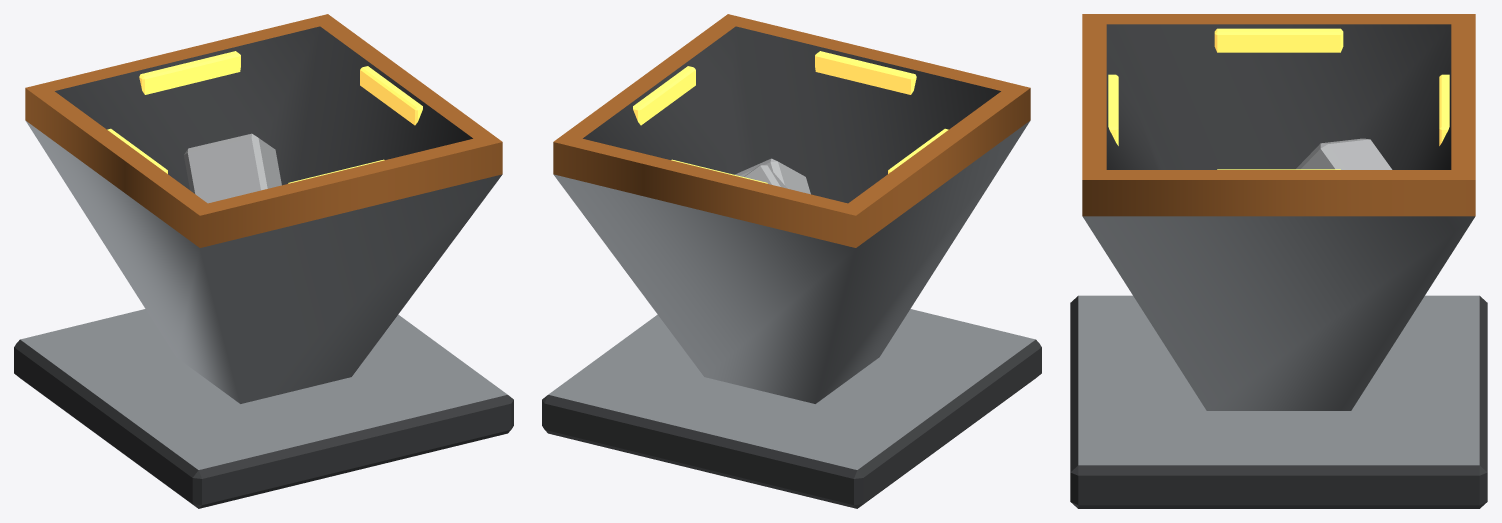
The model's file is R4X_SalvageOptimizer_LOD1.fbx.
The picture shows the model from 3 angles, left to right: view 1: azimuth 30°, elevation 25°; view 2: azimuth 150°, elevation 25°; view 3: azimuth 270°, elevation 25°; orthographic projection. The views are drawn at different scales.
Parts seen in each view (by area): view 1: R4X_SalvageOptimizer_LOD1; view 2: R4X_SalvageOptimizer_LOD1; view 3: R4X_SalvageOptimizer_LOD1.
Boxes of the visible parts, left/top/right/bottom form: R4X_SalvageOptimizer_LOD1: left=14, top=14, right=513, bottom=508; R4X_SalvageOptimizer_LOD1: left=542, top=14, right=1041, bottom=508; R4X_SalvageOptimizer_LOD1: left=1070, top=14, right=1487, bottom=508.
Bounding box in the file's own units: 0.52 × 0.45 × 0.52.
